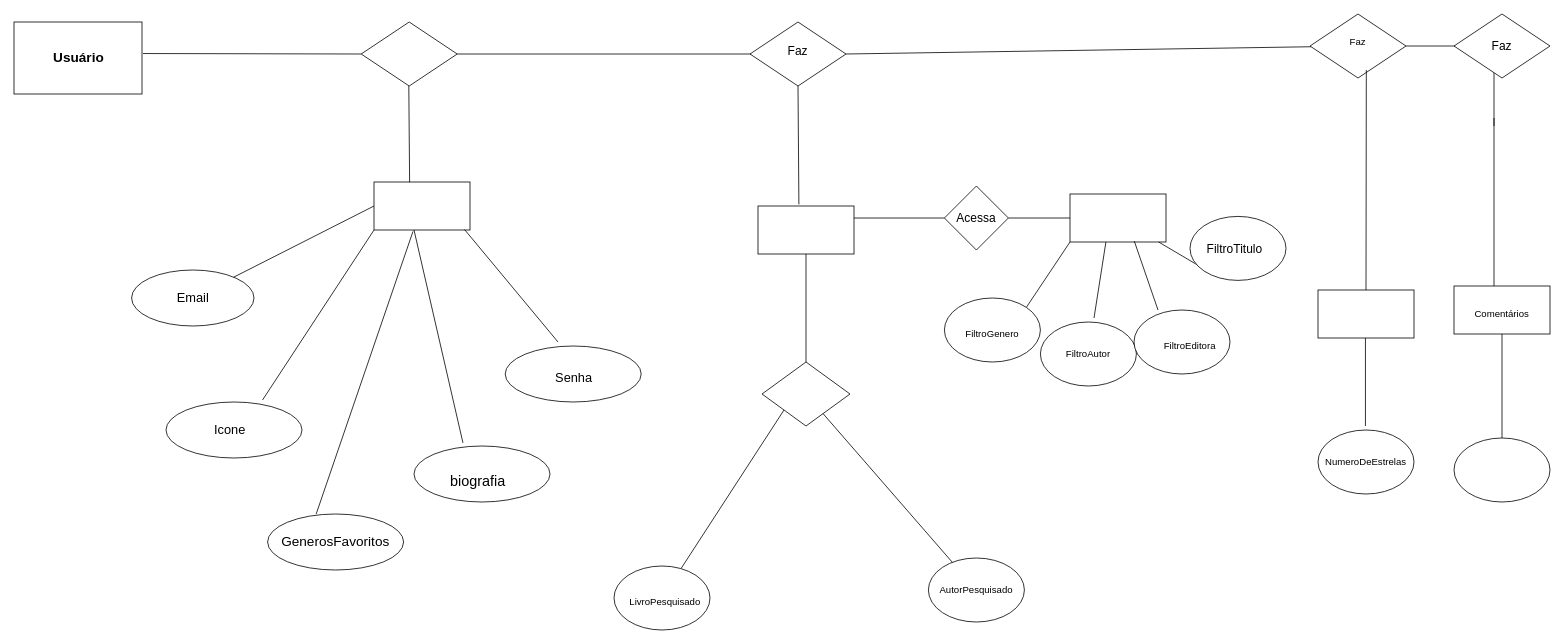
Image size: 1564x644. Some labels were removed from this diagram. Each missing label, with the centre of its shape:
Avaliações: [1365,313]
Edita: [408,53]
Filtros: [1117,217]
Perfil: [421,205]
Pesquisa livros: [805,229]
Retorna: [805,393]
TextoComentario: [1501,469]
